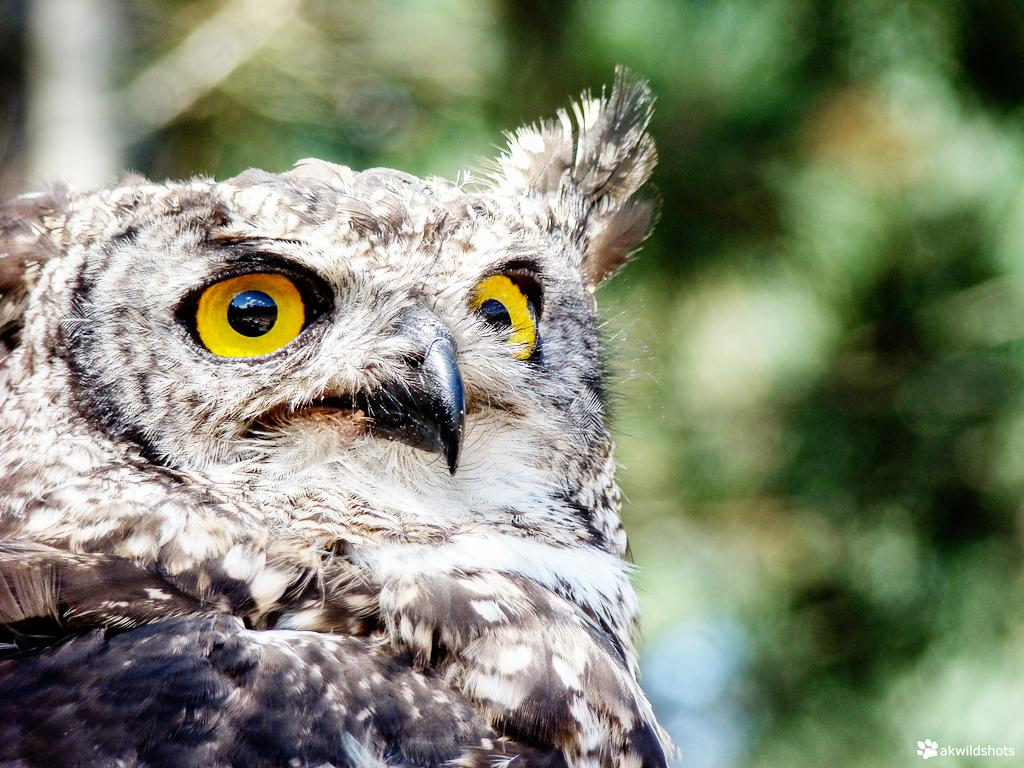Owl: (12, 68, 660, 750)
